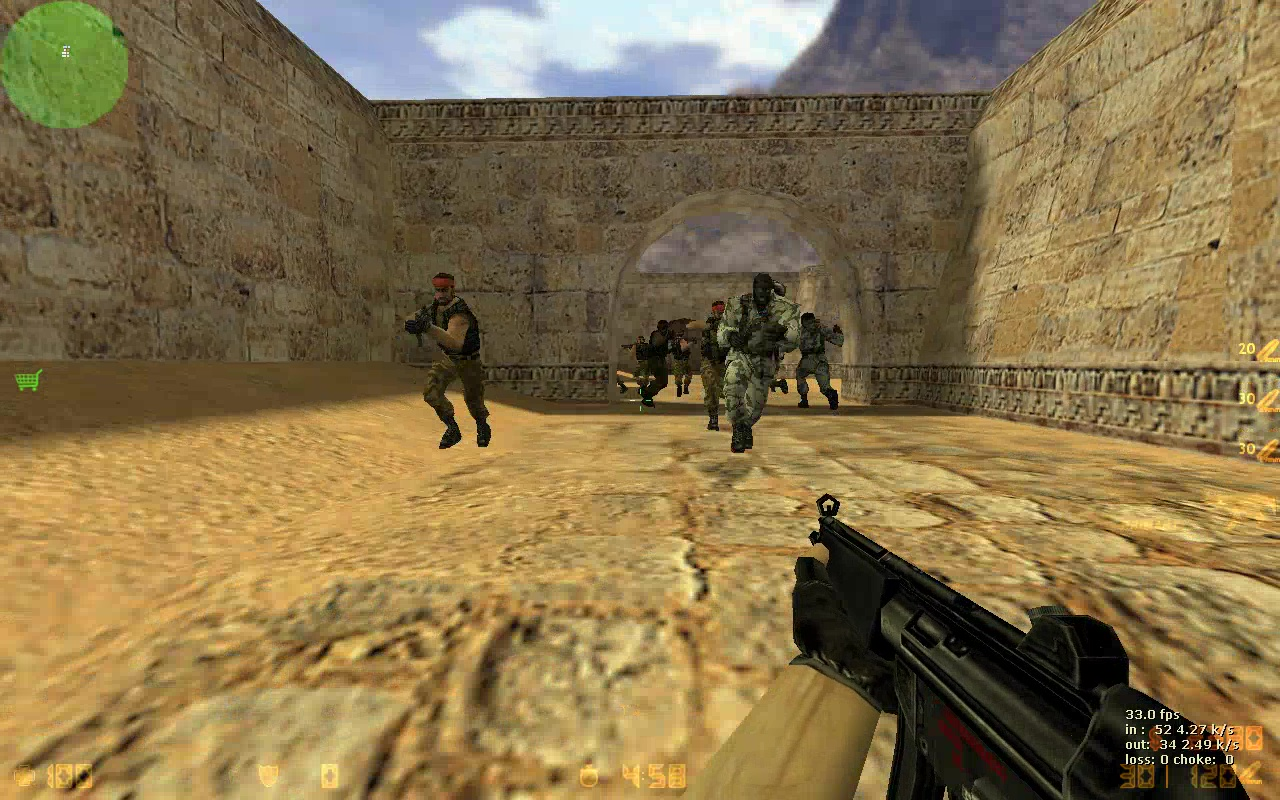terr1: (402, 270, 495, 447), (700, 306, 729, 430), (667, 325, 695, 394), (627, 333, 653, 384)
terr2: (717, 270, 798, 460), (791, 316, 845, 407)
